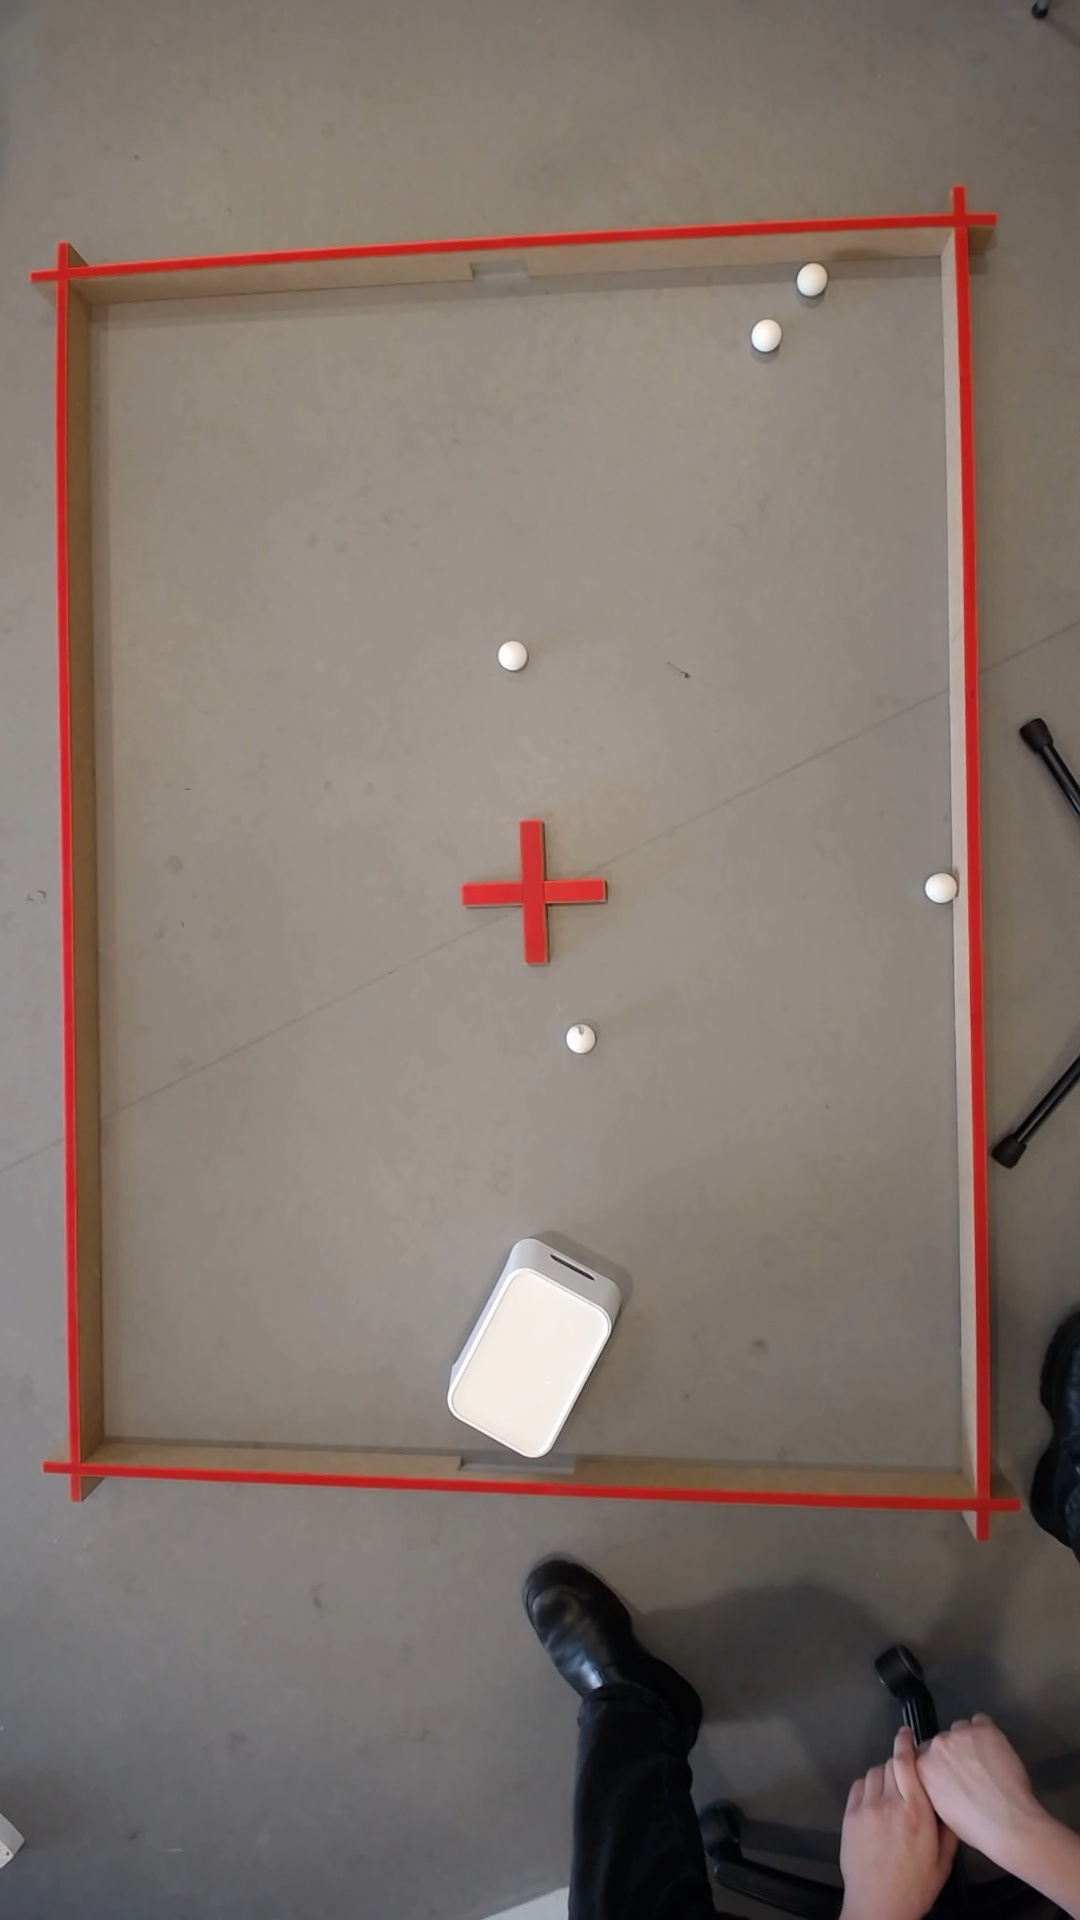balls: (430, 1241, 626, 1464), (909, 1759, 1017, 1863), (919, 868, 959, 906), (745, 314, 782, 353), (492, 636, 527, 673), (791, 258, 825, 297), (562, 1023, 592, 1054)
car: (890, 1760, 909, 1796)
